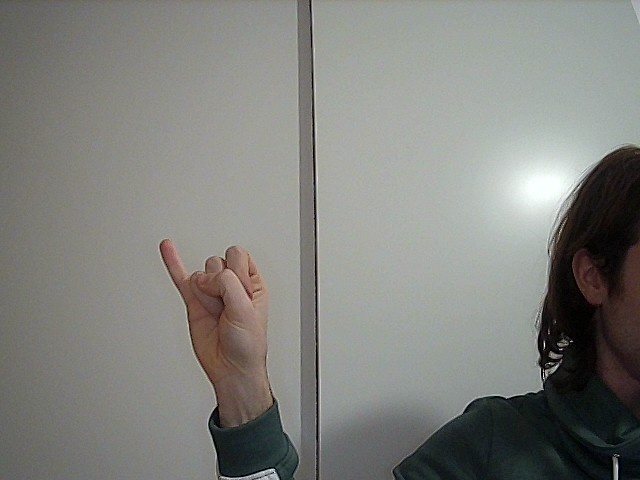j: (138, 215, 298, 365)
